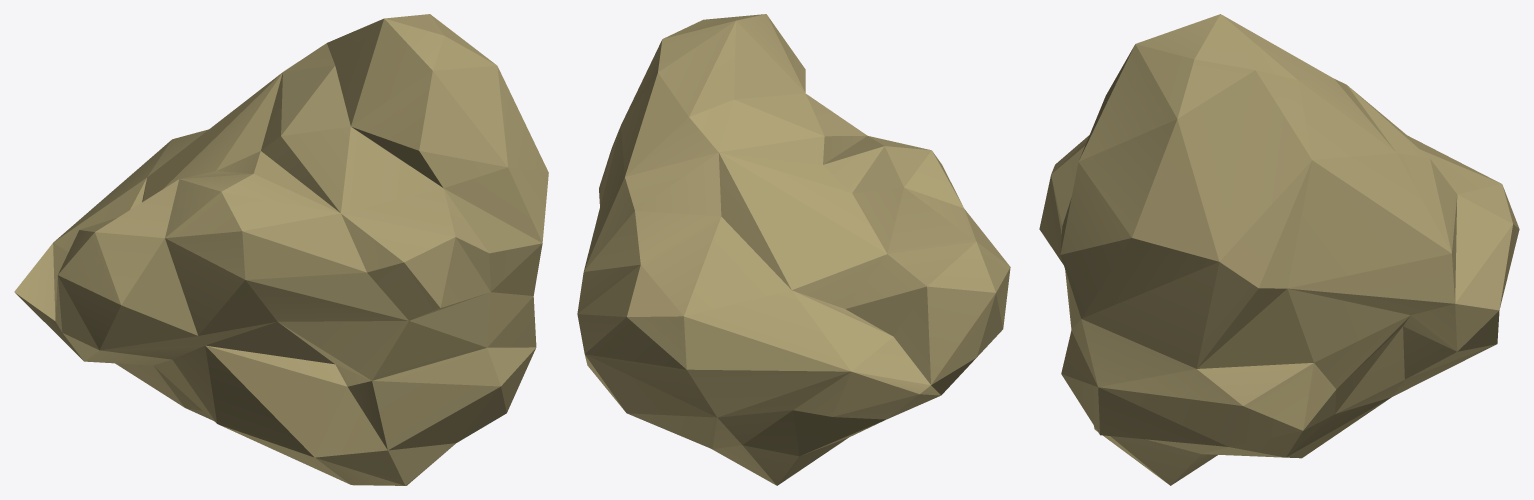
The model's file is SM_rock_22.fbx.
3 renders of one model, left to right at view 1: azimuth 30°, elevation 25°; view 2: azimuth 150°, elevation 25°; view 3: azimuth 270°, elevation 25°, orthographic. The views are drawn at different scales.
Visible parts, largest first — view 1: rock_22; view 2: rock_22; view 3: rock_22.
Boxes of the visible parts, bbox=[...] form: rock_22: bbox=[14, 14, 548, 485]; rock_22: bbox=[577, 14, 1010, 485]; rock_22: bbox=[1039, 14, 1519, 485].
Size of the model in its own units: 320 by 315 by 290.
